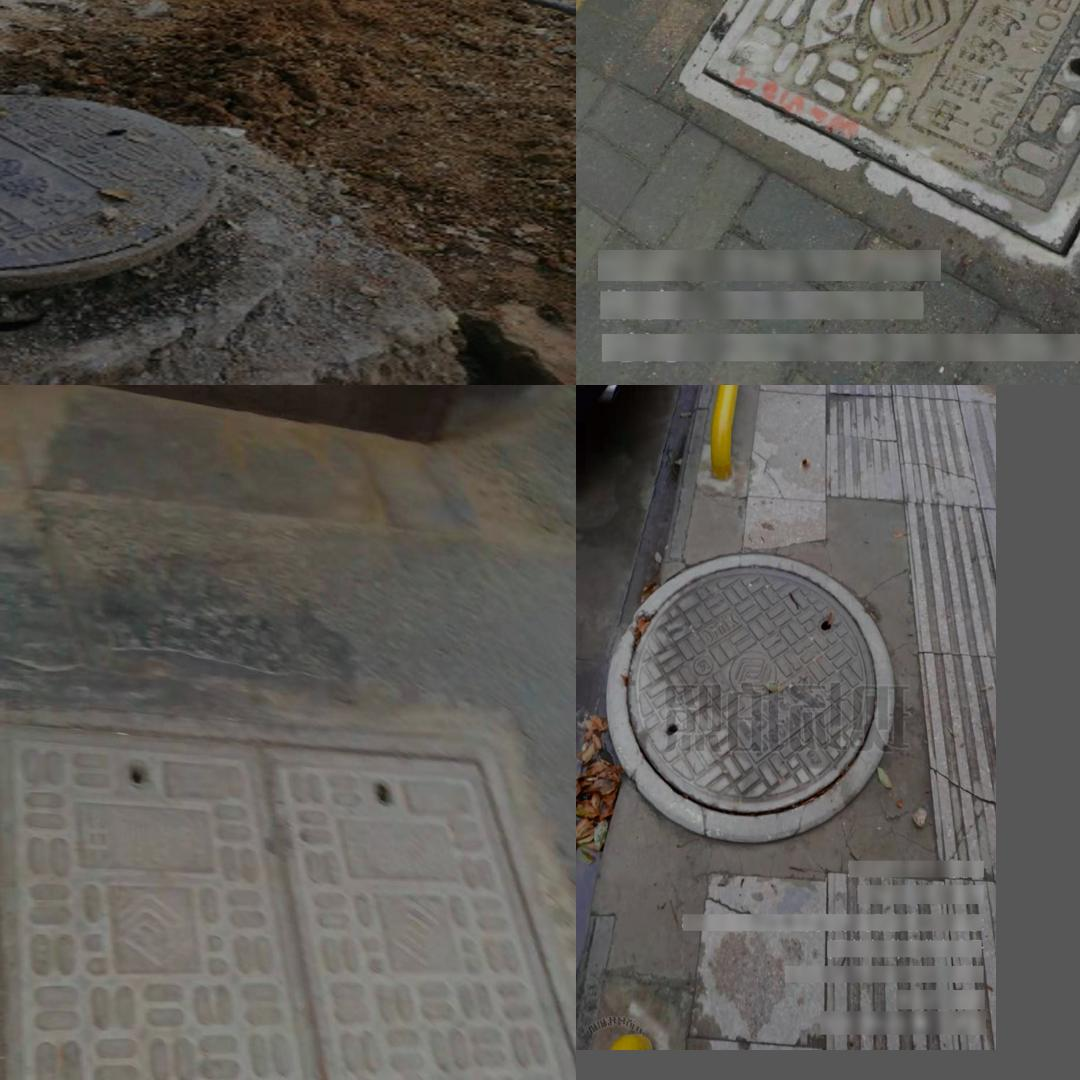good: (0, 715, 572, 1080), (681, 0, 1080, 272), (605, 552, 893, 843), (0, 92, 221, 309)
